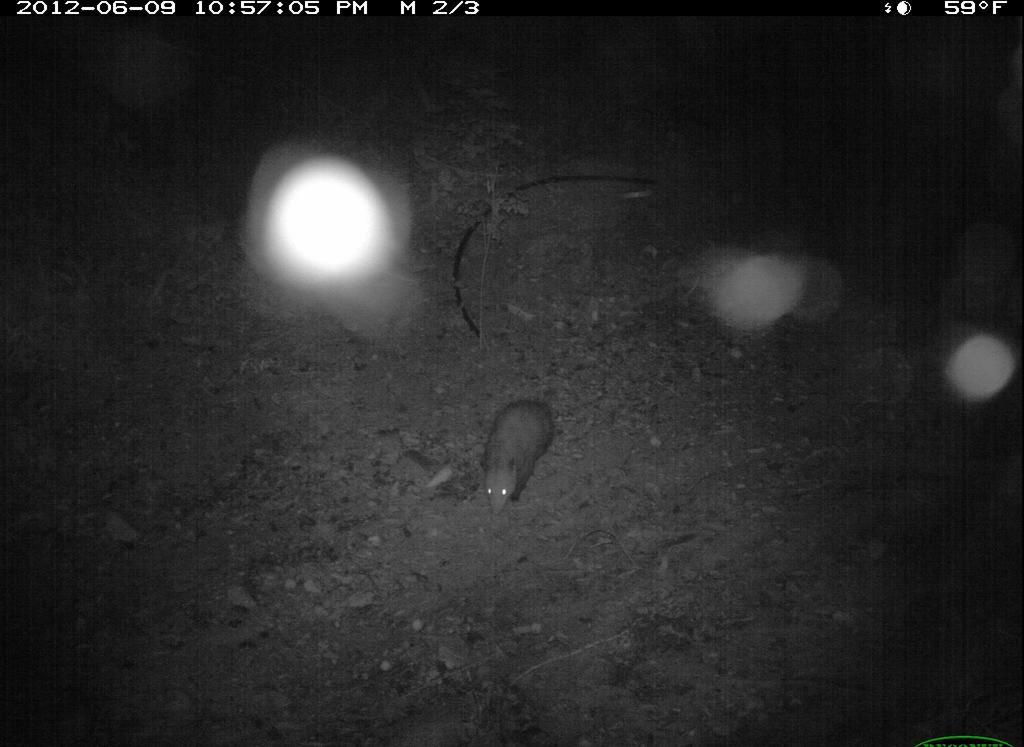opossum: (470, 386, 564, 521)
